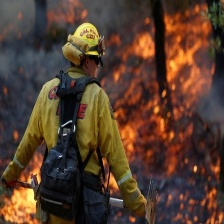fire: (119, 1, 222, 219), (1, 166, 41, 224)
